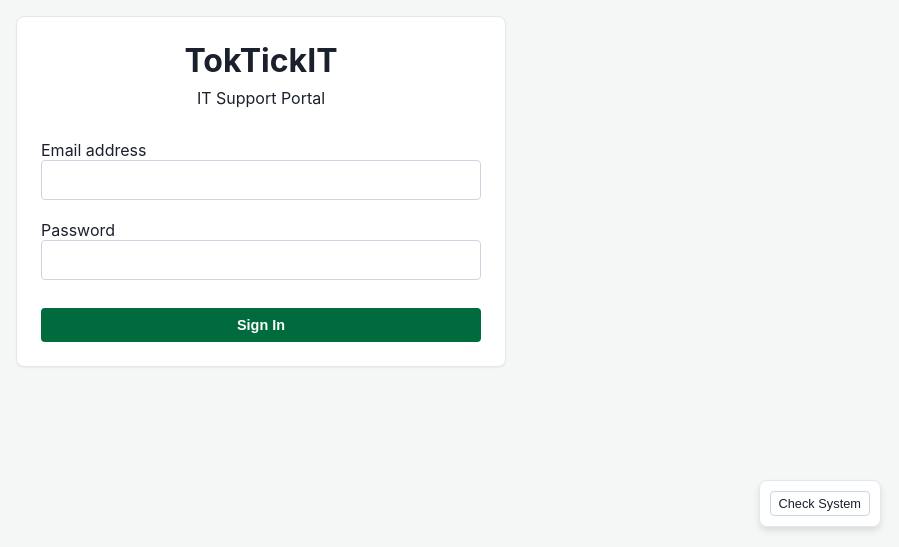
Scenario: App › shows an Offline error message when the API is unavailable
Click the button "Check System". click: (820, 504)
box: [770,491,870,516]
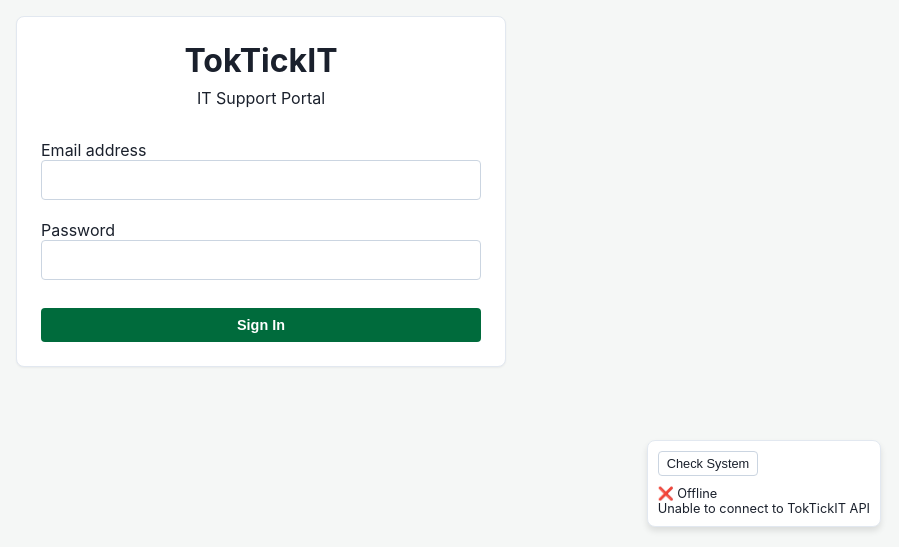
Expected: the text "❌ Offline" is shown, [658,486,717,501]
Expected: the text "Unable to connect to TokTickIT API" is shown, [658,501,870,516]
